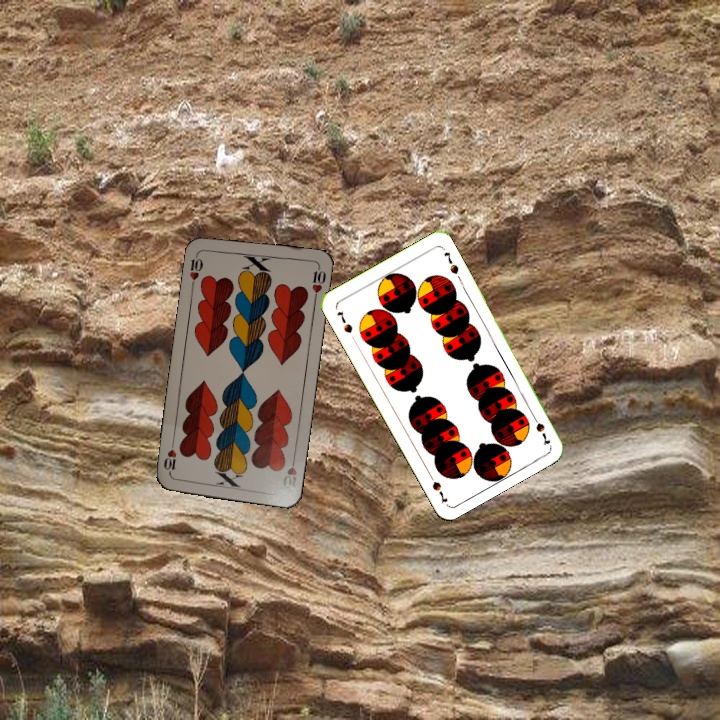H10: (279, 451, 299, 492), (186, 248, 205, 289)
S7: (528, 410, 553, 448), (333, 307, 355, 336)
